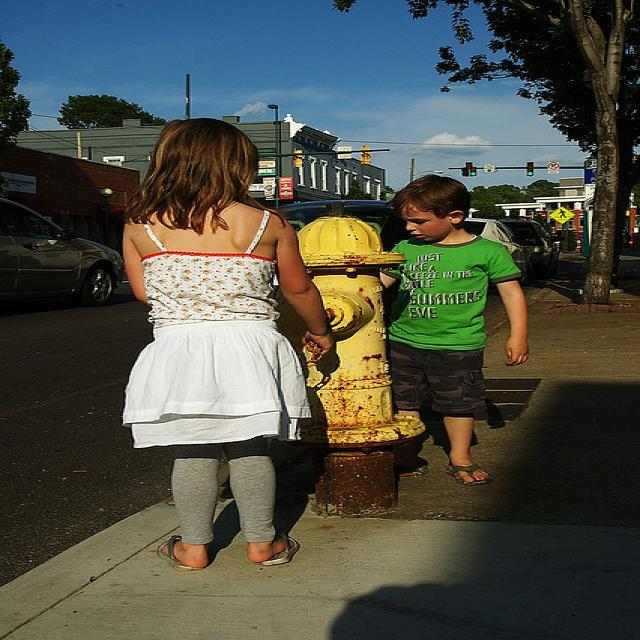fire_hydrant: (274, 201, 426, 518)
